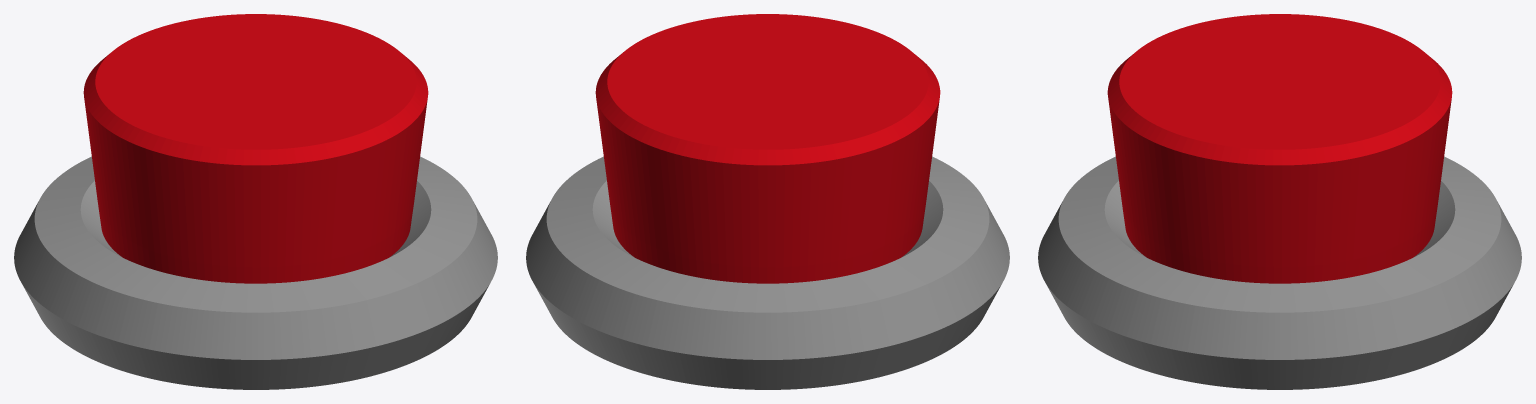
File: button.fbx
3 renders of one model, left to right at view 1: azimuth 30°, elevation 25°; view 2: azimuth 150°, elevation 25°; view 3: azimuth 270°, elevation 25°, orthographic.
Visible parts, largest first — view 1: Cylinder, Torus; view 2: Cylinder, Torus; view 3: Cylinder, Torus.
Part boxes in pixels (x1,y1,x2,y2): Cylinder: [83, 14, 428, 283]; Torus: [14, 156, 497, 389]; Cylinder: [595, 14, 940, 283]; Torus: [526, 156, 1009, 389]; Cylinder: [1107, 14, 1452, 283]; Torus: [1038, 156, 1521, 389].
Size of the model in its own units: 168 by 87.12 by 168.
